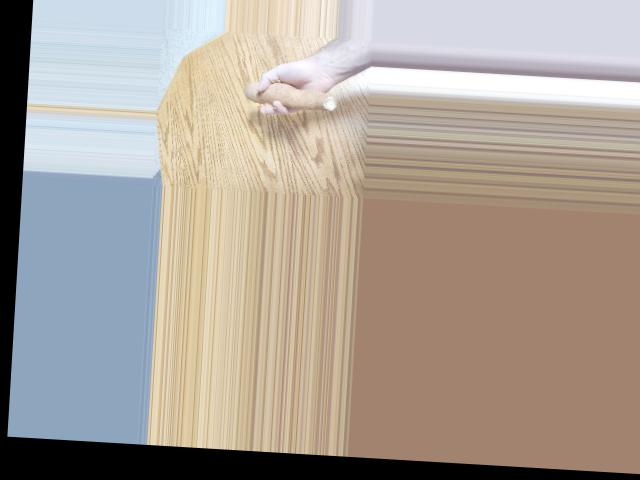sweet_potato: (238, 85, 341, 114)
